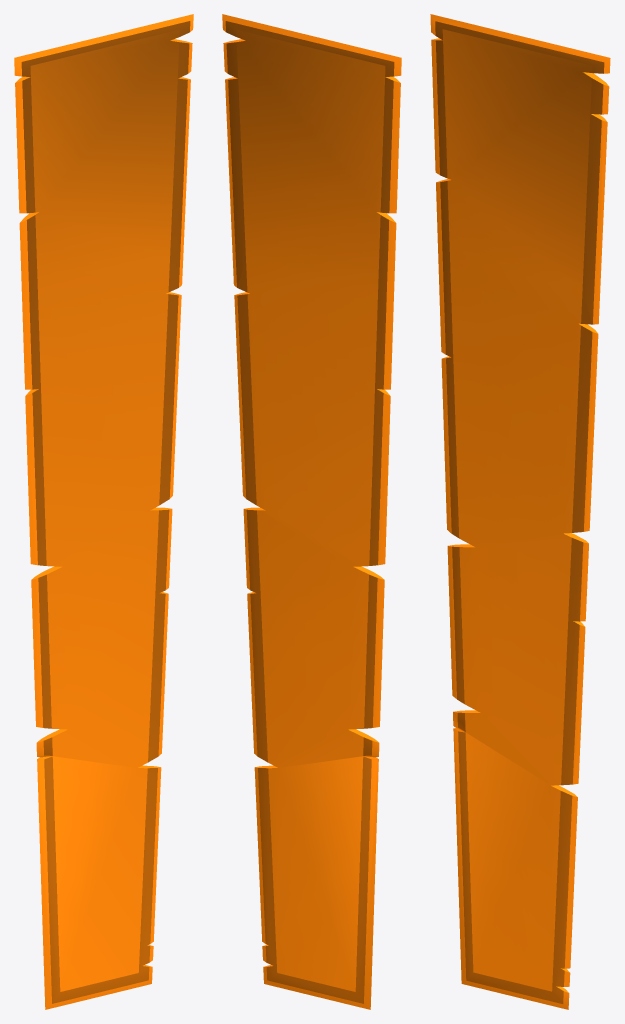
Rendered from bronze_blade_scratched_038.glb.
3 views of the same model, side by side, from view 1: azimuth 30°, elevation 25°; view 2: azimuth 150°, elevation 25°; view 3: azimuth 330°, elevation 25° (orthographic).
Parts seen in each view (by area): view 1: bronze_blade_scratched.038; view 2: bronze_blade_scratched.038; view 3: bronze_blade_scratched.038.
Boxes of the visible parts, box(x1,y1,x2,y2) form: bronze_blade_scratched.038: box(14, 14, 193, 1009); bronze_blade_scratched.038: box(222, 14, 401, 1009); bronze_blade_scratched.038: box(430, 14, 610, 1009).
Bounding box in the file's own units: 2.19 × 11.21 × 0.0882.
1 material, 1 textured.
